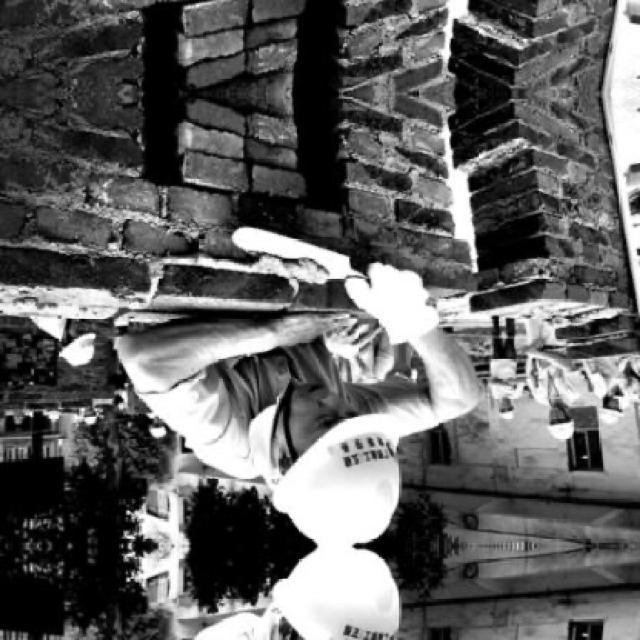con casco: (204, 357, 420, 543)
